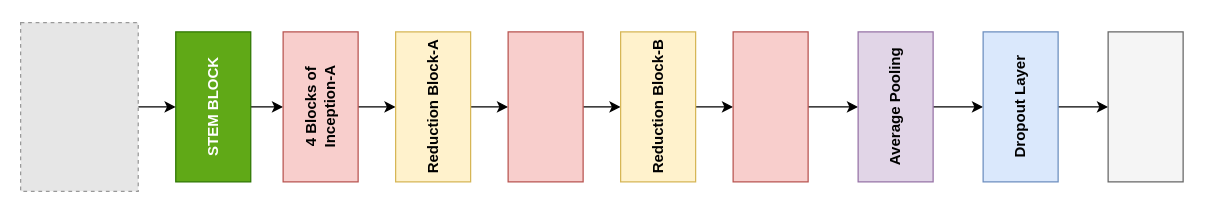
Some shapes in this 1205 by 213 pixel diagram are drawn without their labels. Grey dashed boxes stand in for pictures. Here are the shapes that lost their labels. From the top down, the centre of each, then its label:
the point at 545,106: 7 Blocks of Inception-B
the point at 770,106: 3 Blocks of Inception-C
the point at 1145,106: Softmax(Output)
